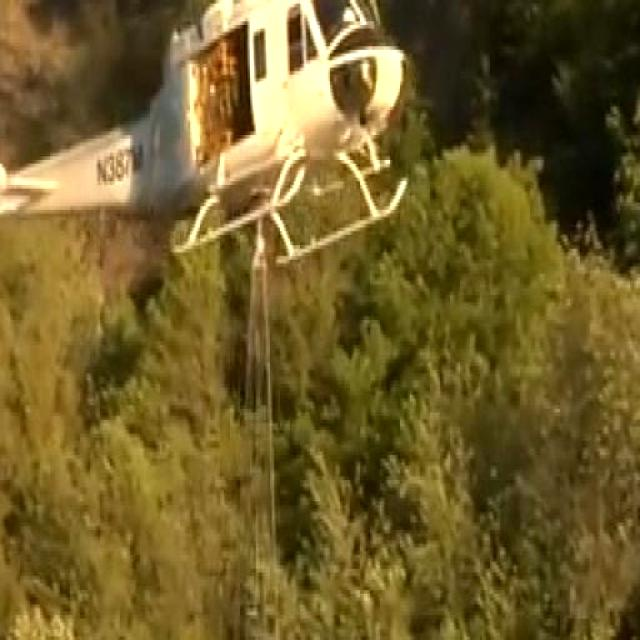drone: (0, 0, 416, 275)
